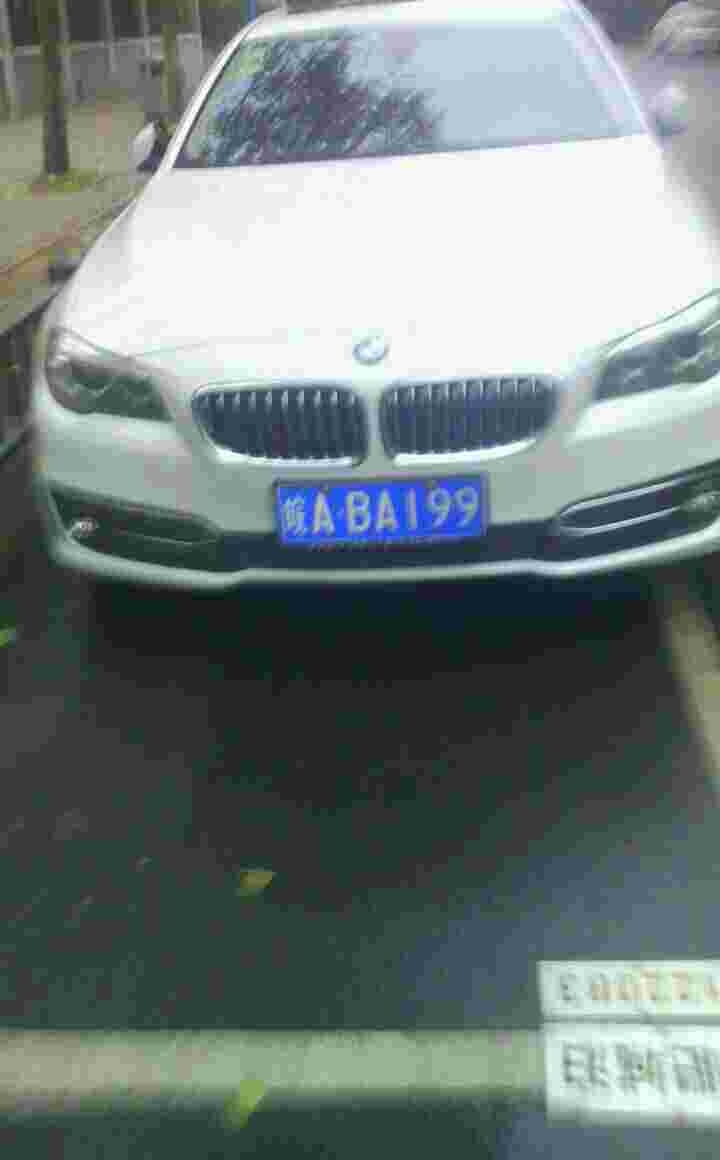license_plate: (282, 476, 482, 547)
